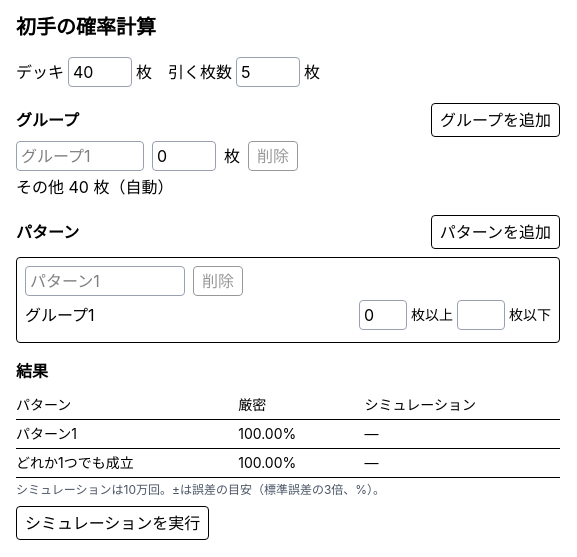
Test case: 最小が最大より大きいと、条件の行の下に誤りが出る
This screenshot has width=577, height=557.
Replace the text in the number field named "パターン1：グループ1の最小" with "5" at (383, 315), box [359,300,407,330]
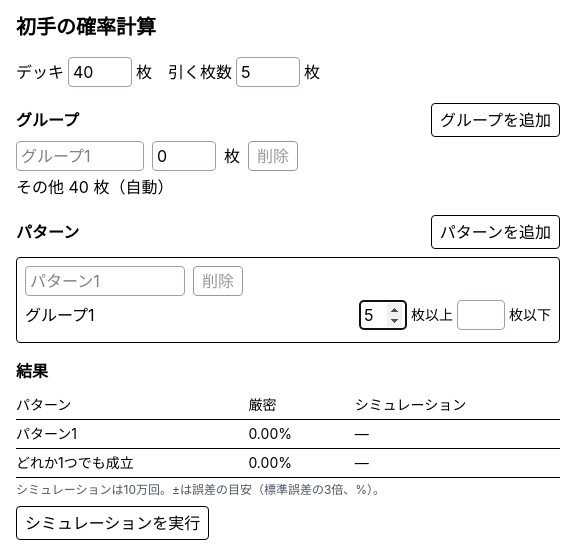
Type "2" into the number field named "パターン1：グループ1の最大" at (481, 315), box [457,300,505,330]
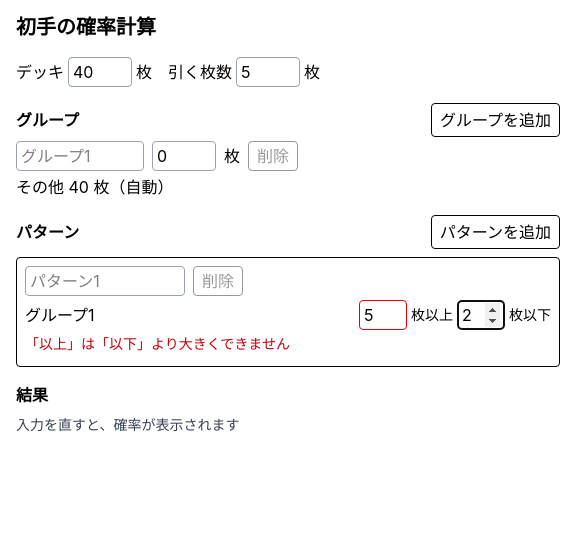
Expected: the message reads "「以上」は「以下」より大きくできません", [25,335,290,352]
